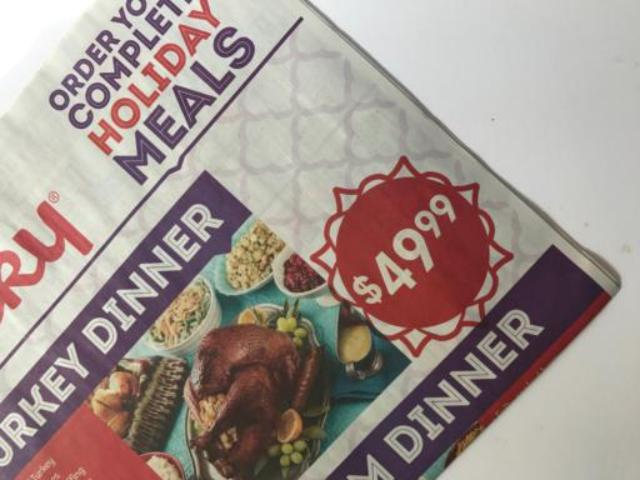cardboard paper: (0, 0, 618, 476)
